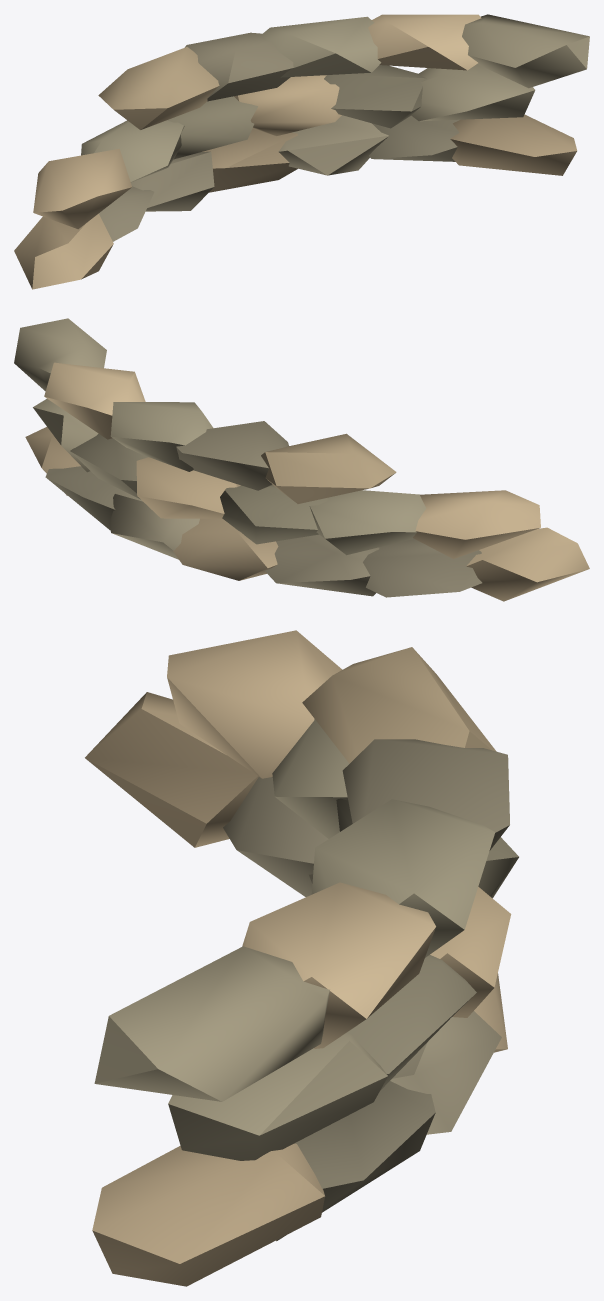
File: sandbags_a_lod2.glb
3 views of the same model, one above another, from view 1: azimuth 30°, elevation 25°; view 2: azimuth 150°, elevation 25°; view 3: azimuth 270°, elevation 25° (orthographic). The views are drawn at different scales.
Visible parts, largest first — view 1: Surface.001; view 2: Surface.001; view 3: Surface.001.
Part boxes in pixels (x1,y1,x2,y2): Surface.001: (14,14,589,289); Surface.001: (14,318,589,601); Surface.001: (85,630,518,1286).
Bounding box in the file's own units: 5.39 × 1.34 × 1.8.
